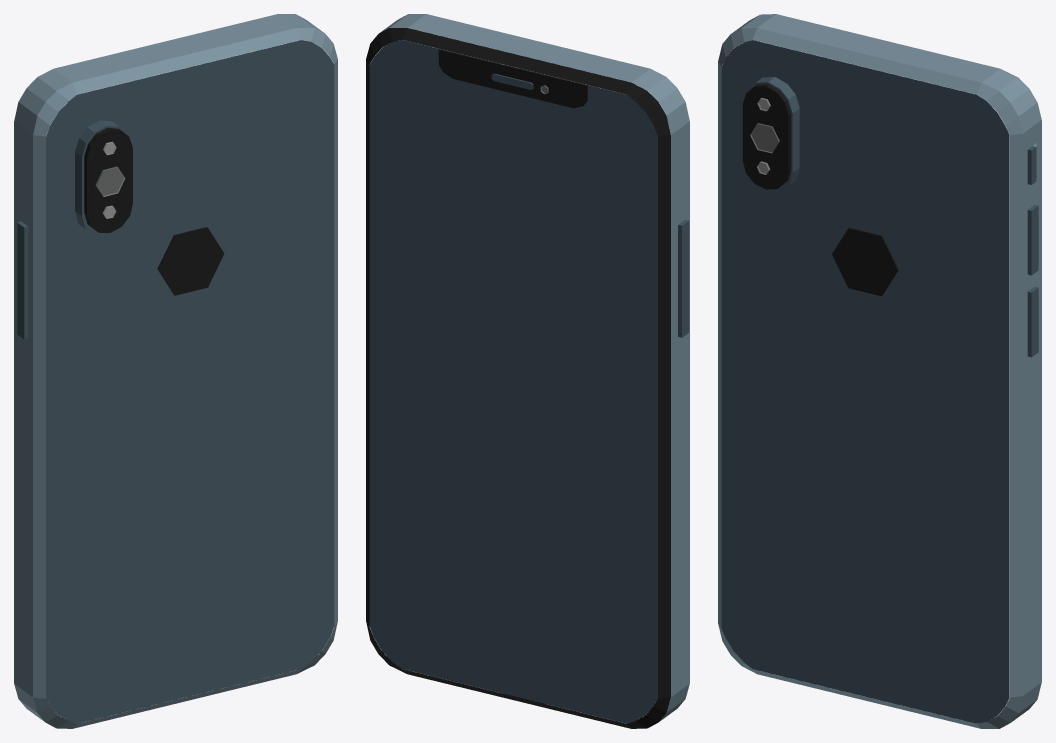
File: phone.glb
3 renders of one model, left to right at view 1: azimuth 30°, elevation 25°; view 2: azimuth 150°, elevation 25°; view 3: azimuth 330°, elevation 25°, orthographic.
Parts seen in each view (by area): view 1: group817659832, group40103501, group1638188736, group465359774, group1637273763, group1982349354; view 2: group817659832, group660411554, group1637273763; view 3: group817659832, group40103501, group1638188736, group465359774, group849457402, group1152579848, group1982349354.
Boxes of the visible parts, x1,y1,x2,y2 form: group817659832: (14, 14, 337, 728); group40103501: (84, 127, 132, 232); group1638188736: (157, 227, 224, 295); group465359774: (75, 120, 128, 236); group1637273763: (17, 221, 28, 339); group1982349354: (96, 167, 125, 196); group817659832: (366, 14, 689, 728); group660411554: (438, 49, 587, 108); group1637273763: (678, 219, 689, 337); group817659832: (718, 14, 1041, 728); group40103501: (742, 84, 791, 189); group1638188736: (832, 227, 898, 296); group465359774: (743, 77, 799, 192); group849457402: (1027, 205, 1038, 275); group1152579848: (1027, 286, 1038, 357); group1982349354: (750, 123, 779, 153).
Bounding box in the file's own units: 0.76 × 1.5 × 0.1761.
